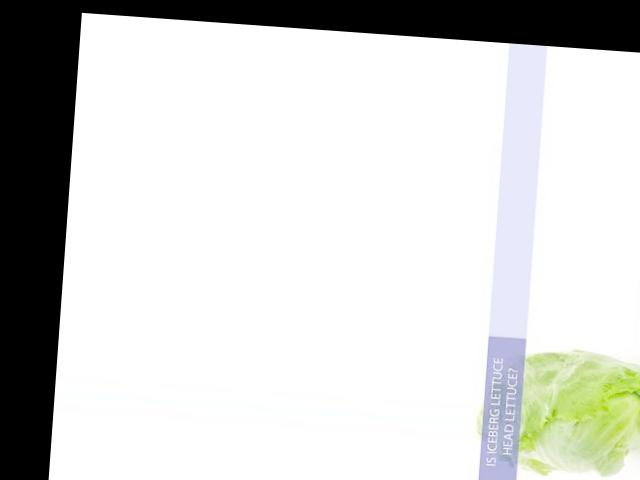lettuce: (472, 300, 617, 480)
